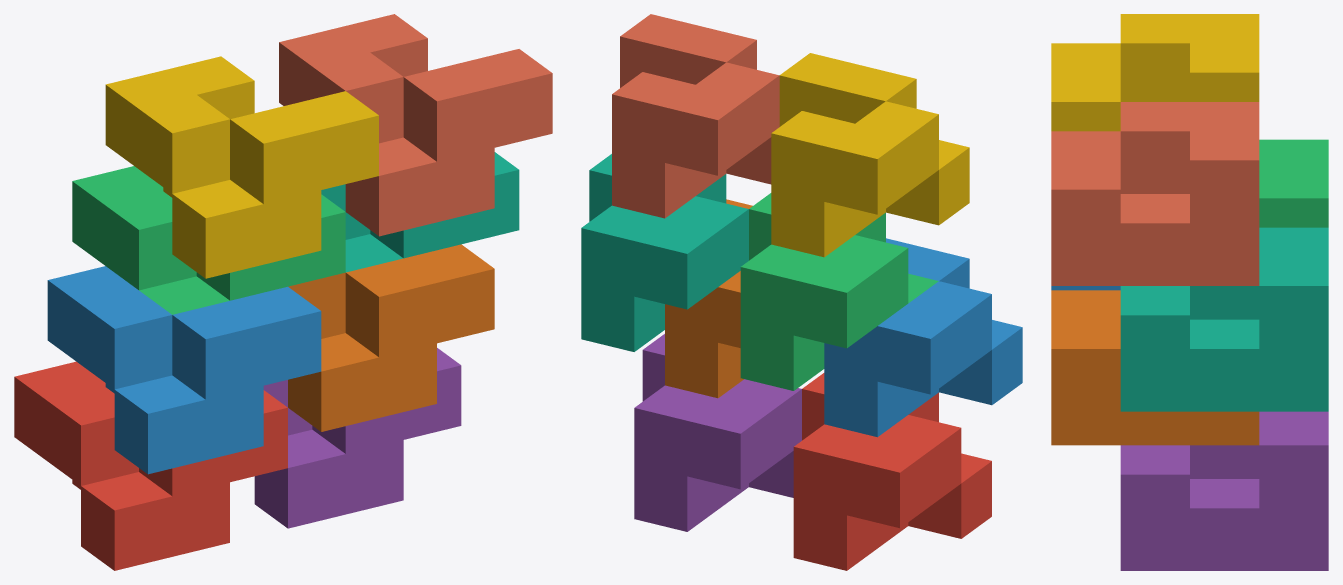
Rendered from tiling.obj.
The picture shows the model from 3 angles, left to right: view 1: azimuth 30°, elevation 25°; view 2: azimuth 150°, elevation 25°; view 3: azimuth 270°, elevation 25°; orthographic projection. The views are drawn at different scales.
Parts seen in each view (by area): view 1: copy_1_domain_4, copy_1_domain_2, copy_1_domain_8, copy_1_domain_1, copy_1_domain_6, copy_1_domain_3, copy_1_domain_5, copy_1_domain_7; view 2: copy_1_domain_4, copy_1_domain_8, copy_1_domain_1, copy_1_domain_2, copy_1_domain_5, copy_1_domain_3, copy_1_domain_7, copy_1_domain_6; view 3: copy_1_domain_8, copy_1_domain_7, copy_1_domain_5, copy_1_domain_4, copy_1_domain_6, copy_1_domain_3.
Part boxes in pixels (x1=…): copy_1_domain_4: x1=105, y1=56, x2=378, y2=278; copy_1_domain_2: x1=47, y1=266, x2=321, y2=474; copy_1_domain_8: x1=279, y1=14, x2=552, y2=236; copy_1_domain_1: x1=14, y1=361, x2=287, y2=570; copy_1_domain_6: x1=288, y1=244, x2=494, y2=431; copy_1_domain_3: x1=72, y1=166, x2=345, y2=314; copy_1_domain_5: x1=254, y1=348, x2=461, y2=528; copy_1_domain_7: x1=321, y1=152, x2=519, y2=272; copy_1_domain_4: x1=771, y1=53, x2=969, y2=257; copy_1_domain_8: x1=612, y1=14, x2=779, y2=218; copy_1_domain_1: x1=793, y1=373, x2=991, y2=570; copy_1_domain_2: x1=824, y1=238, x2=1022, y2=437; copy_1_domain_5: x1=634, y1=334, x2=801, y2=531; copy_1_domain_3: x1=740, y1=193, x2=938, y2=390; copy_1_domain_7: x1=581, y1=154, x2=748, y2=351; copy_1_domain_6: x1=665, y1=199, x2=752, y2=398; copy_1_domain_8: x1=1051, y1=102, x2=1259, y2=285; copy_1_domain_7: x1=1120, y1=227, x2=1328, y2=411; copy_1_domain_5: x1=1120, y1=411, x2=1328, y2=570; copy_1_domain_4: x1=1051, y1=14, x2=1259, y2=131; copy_1_domain_6: x1=1051, y1=290, x2=1259, y2=445; copy_1_domain_3: x1=1259, y1=139, x2=1328, y2=227.
Bounding box in the file's own units: 7 × 7 × 4.
